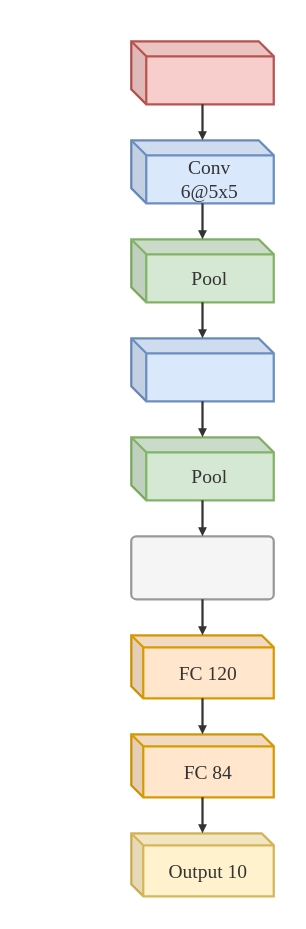
This 306x929 diagram has some shape labels left out. Here are the shapes that lost their labels. From the top down, the centre of each, then its label:
At (x=201, y=72): "Input 32x32x1".
At (x=201, y=369): "Conv 16@5x5".
At (x=201, y=567): "Flatten".
